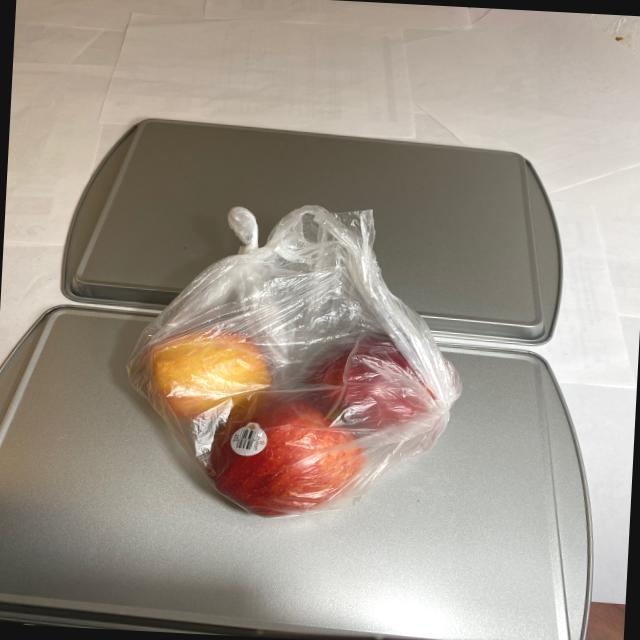apple: (126, 316, 462, 528)
